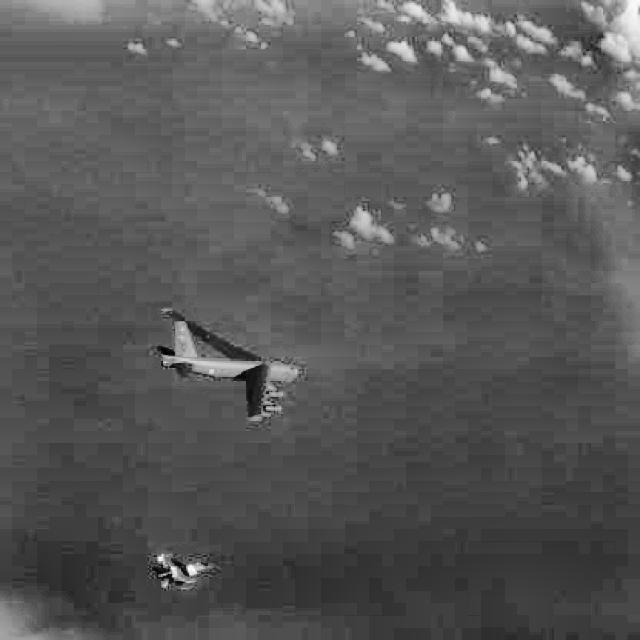B52: (158, 308, 299, 420)
F16: (152, 552, 214, 590)
